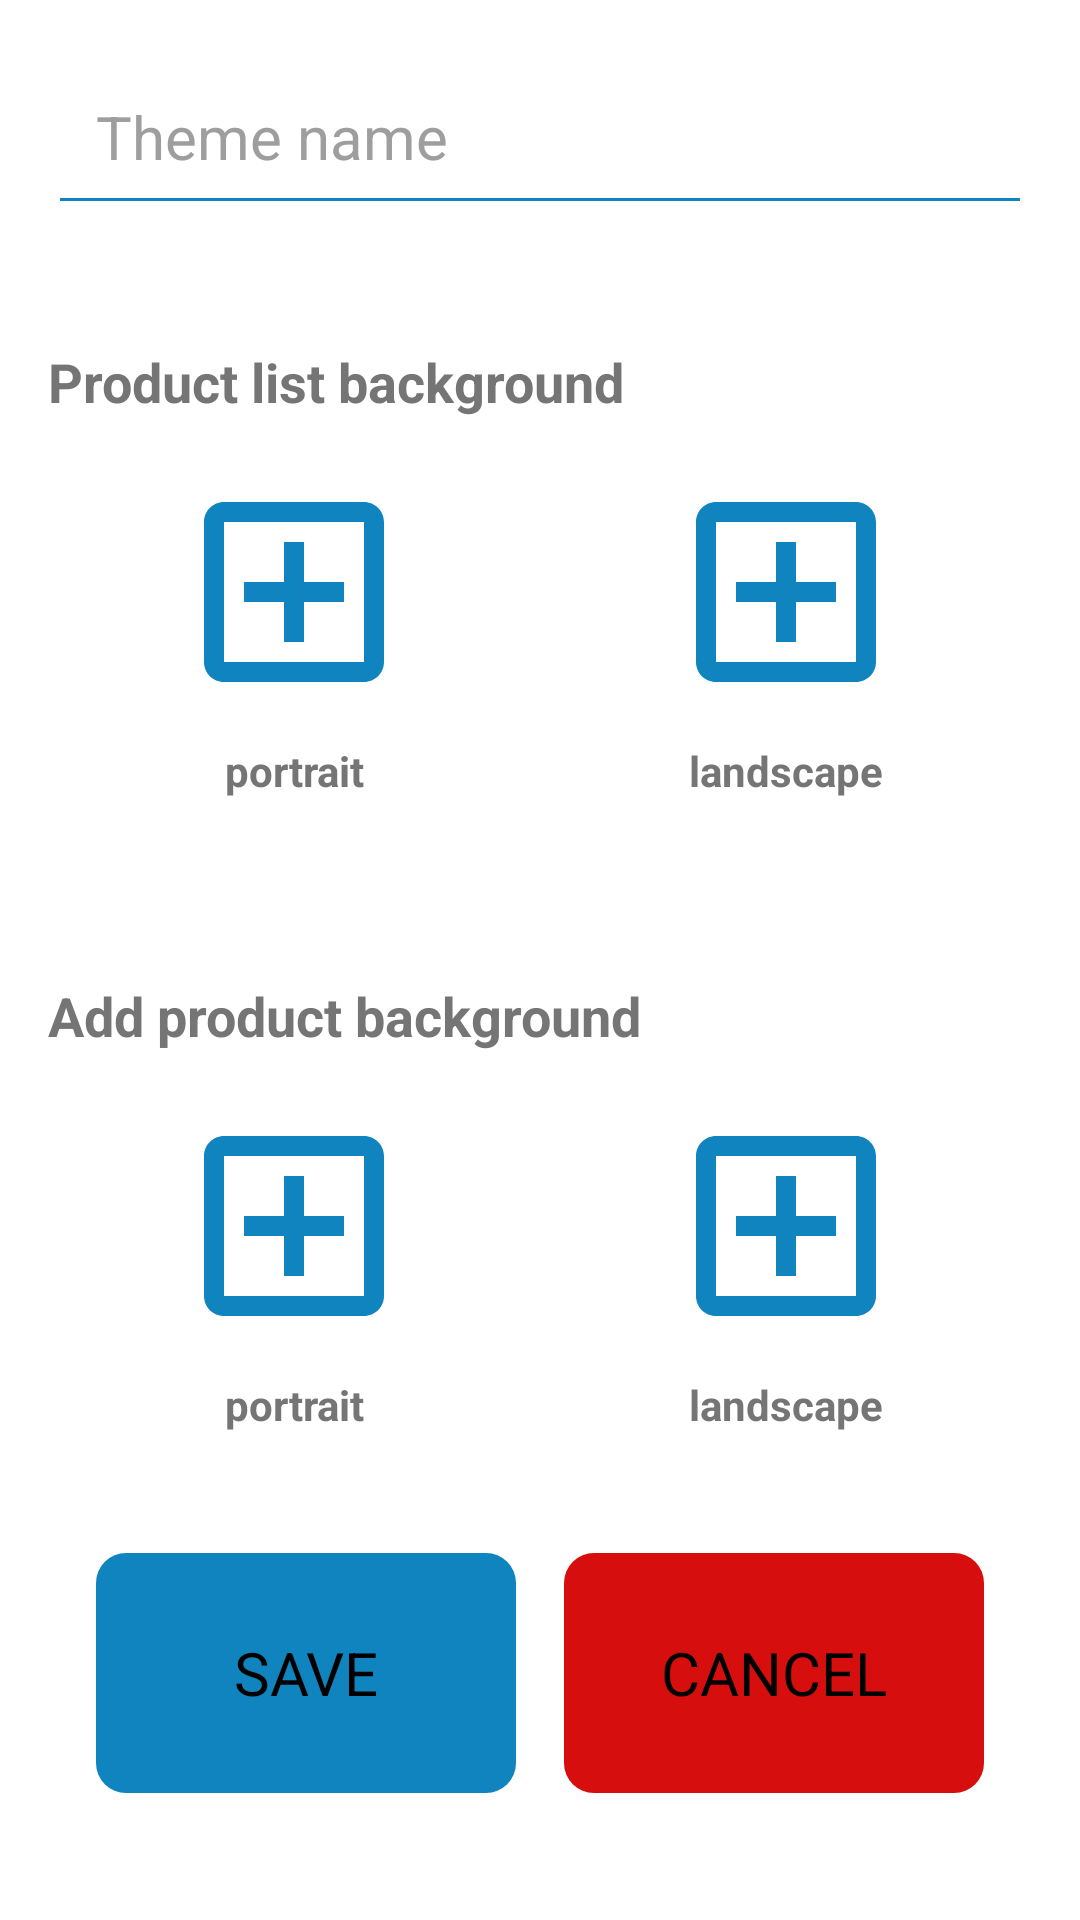

Named icons in this screenshot (1080 × 1920) and their bounding boxes, (x1, y1, x2, y2):
add theme: (204, 502, 384, 682), (696, 502, 876, 682), (204, 1136, 384, 1316), (696, 1136, 876, 1316)
